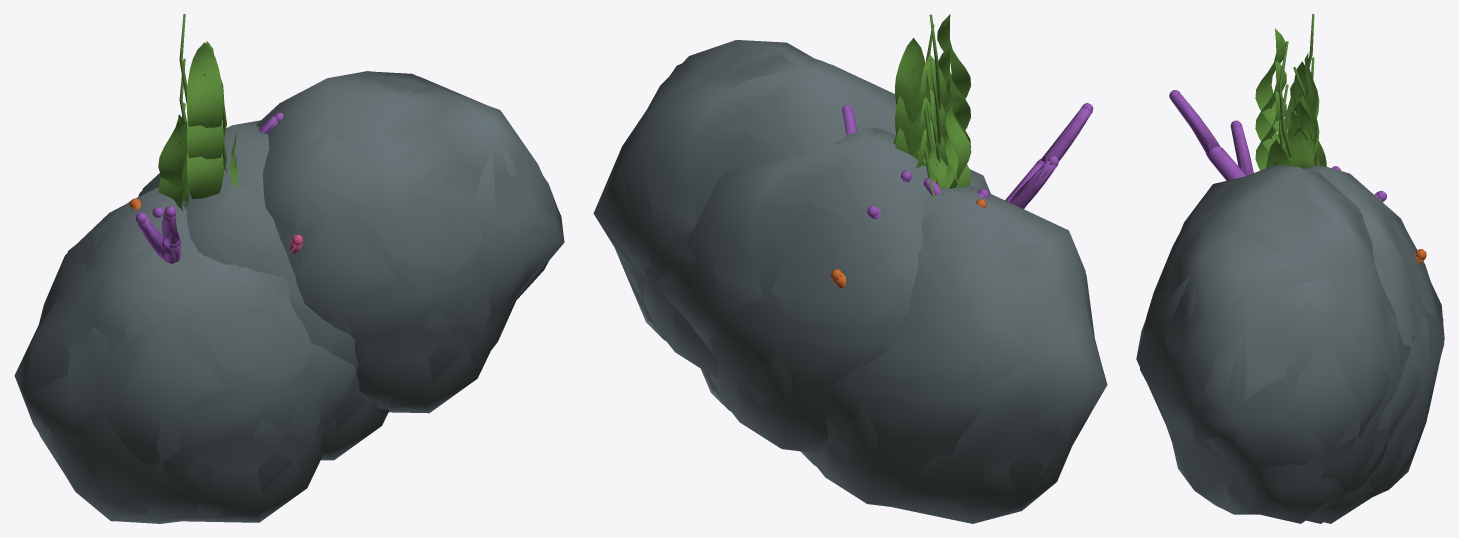
The model's file is underwater-environment.glb.
The picture shows the model from 3 angles, left to right: view 1: azimuth 30°, elevation 25°; view 2: azimuth 150°, elevation 25°; view 3: azimuth 270°, elevation 25°; orthographic projection. The views are drawn at different scales.
Visible parts, largest first — view 1: rock2, rock2_low, kelp2, kelp2_low, kelp1, branch2, kelp0, branch2_low, kelp1_low; view 2: rock2, rock2_low, kelp2, kelp2_low, kelp1, branch2, kelp1_low, branch2_low, kelp0, kelp0_low; view 3: rock2, rock2_low, kelp2, kelp2_low, branch2, branch2_low, kelp1, kelp1_low, kelp0_low, kelp0.
Boxes of the visible parts, bbox=[...] form: rock2: bbox=[14, 71, 560, 523]; rock2_low: bbox=[25, 71, 564, 522]; kelp2: bbox=[158, 14, 238, 201]; kelp2_low: bbox=[158, 45, 237, 202]; kelp1: bbox=[159, 58, 236, 210]; branch2: bbox=[136, 112, 283, 263]; kelp0: bbox=[182, 103, 224, 207]; branch2_low: bbox=[135, 113, 283, 263]; kelp1_low: bbox=[158, 88, 231, 204]; rock2: bbox=[593, 40, 1106, 523]; rock2_low: bbox=[594, 40, 1107, 523]; kelp2: bbox=[893, 14, 971, 191]; kelp2_low: bbox=[895, 22, 970, 197]; kelp1: bbox=[895, 48, 971, 197]; branch2: bbox=[842, 103, 1092, 218]; kelp1_low: bbox=[895, 54, 970, 191]; branch2_low: bbox=[842, 104, 1093, 218]; kelp0: bbox=[899, 79, 969, 189]; kelp0_low: bbox=[895, 90, 970, 181]; rock2: bbox=[1140, 165, 1444, 523]; rock2_low: bbox=[1136, 164, 1444, 523]; kelp2: bbox=[1255, 14, 1322, 168]; kelp2_low: bbox=[1255, 23, 1326, 168]; branch2: bbox=[1169, 90, 1386, 202]; branch2_low: bbox=[1169, 90, 1386, 201]; kelp1: bbox=[1255, 57, 1320, 165]; kelp1_low: bbox=[1255, 65, 1320, 165]; kelp0_low: bbox=[1255, 97, 1319, 170]; kelp0: bbox=[1255, 91, 1318, 165].
Size of the model in its own units: 4.72 by 4.44 by 2.57.
